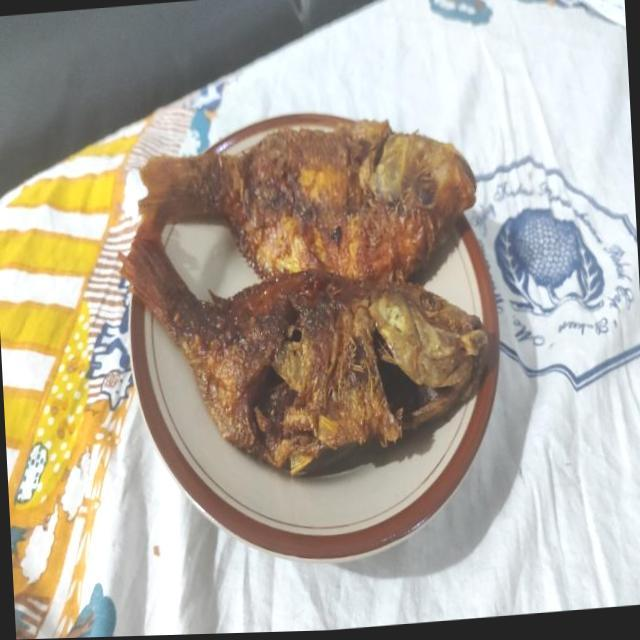ikan_mujair: (123, 220, 498, 476), (140, 120, 476, 284)
